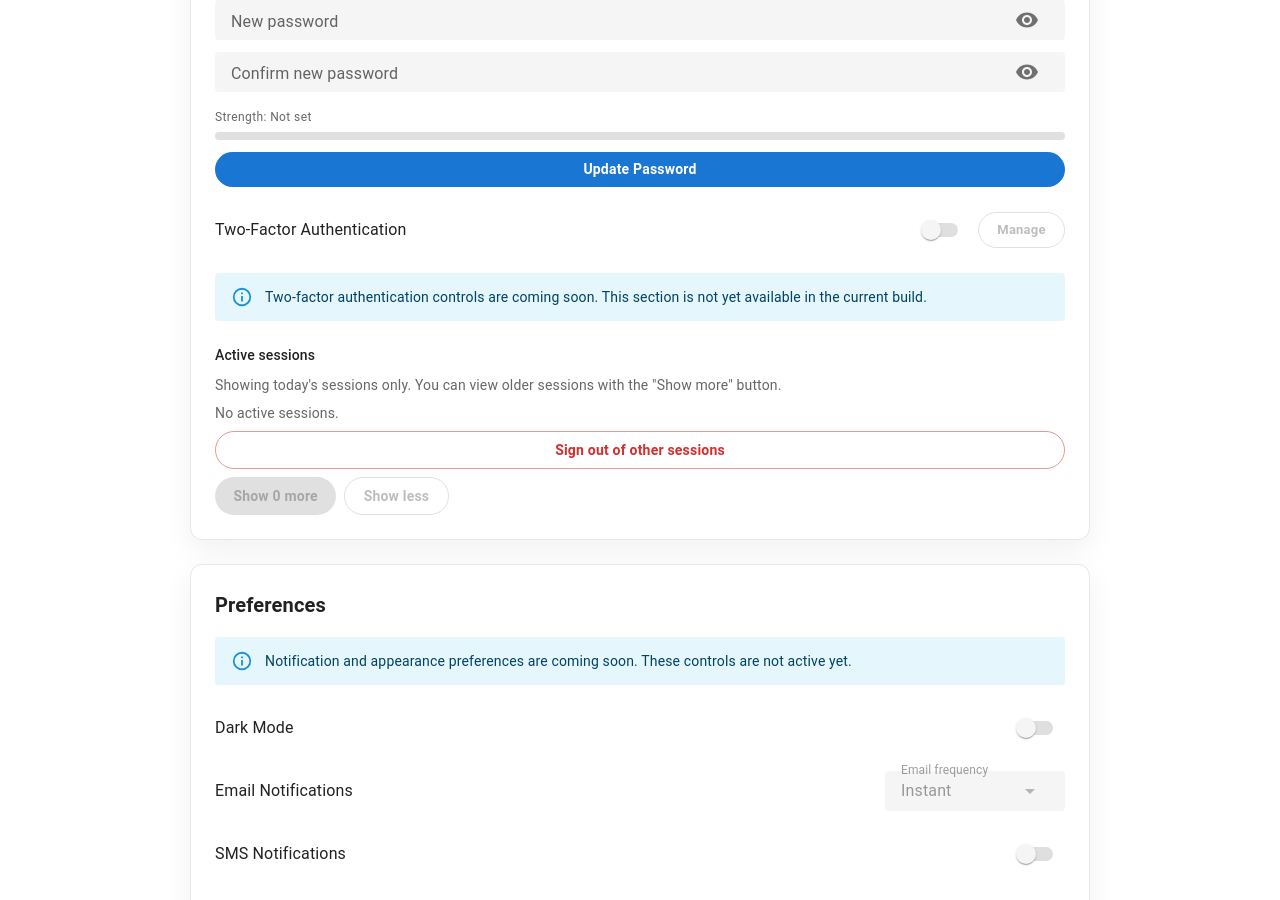
Test: AdminProfile › signs out of other sessions
This screenshot has width=1280, height=900.
(page scrolled)
Click the button "Sign out of other sessions".
click(640, 450)  # box [215,431,1065,469]
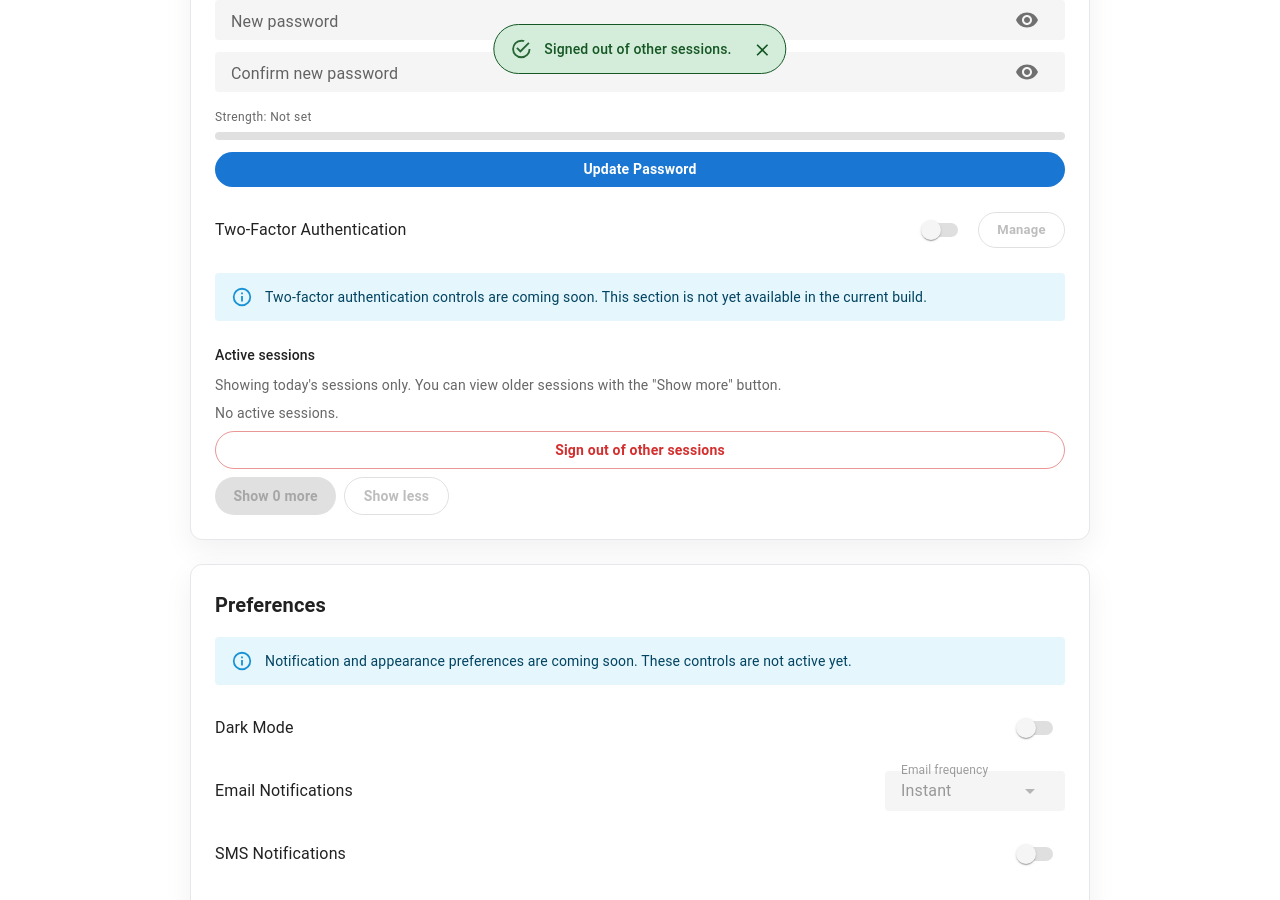
Now the text "Signed out of other sessions." is shown, box [544,41,732,57]
